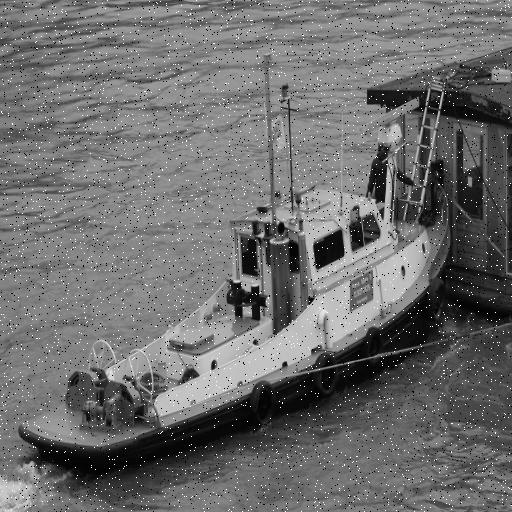tugboat: (17, 95, 458, 486)
